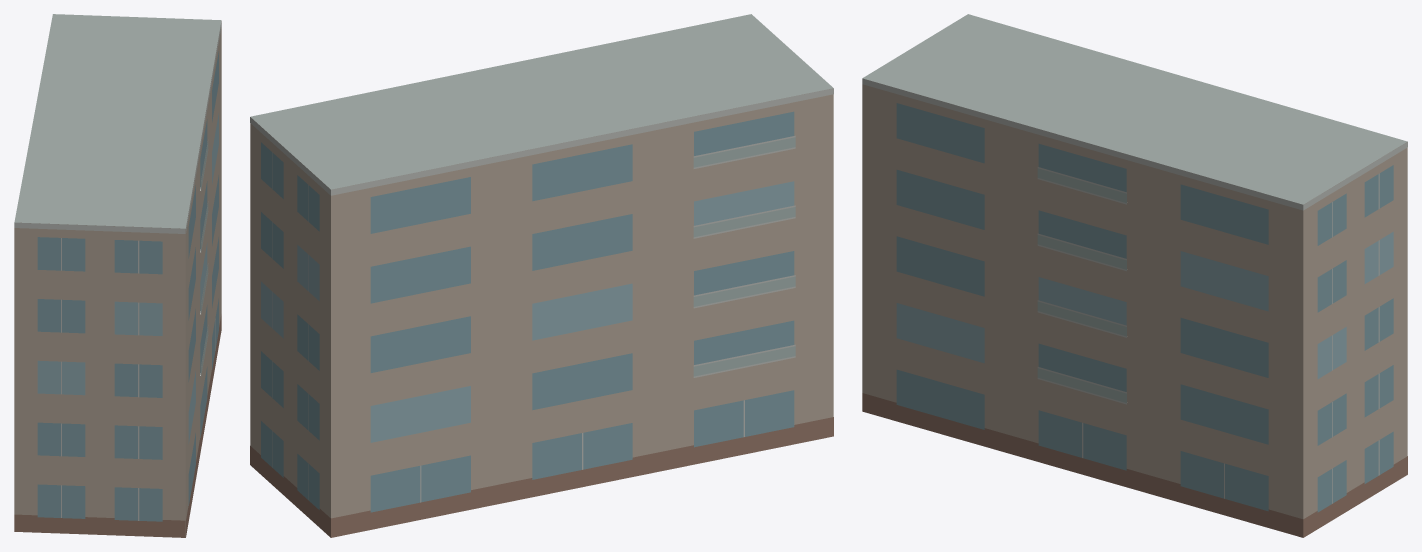
The model's file is survey-upis-32992894.glb.
3 views of the same model, side by side, from view 1: azimuth 30°, elevation 25°; view 2: azimuth 150°, elevation 25°; view 3: azimuth 270°, elevation 25° (orthographic). The views are drawn at different scales.
Parts seen in each view (by area): view 1: survey-upis-32992894.tmp; view 2: survey-upis-32992894.tmp; view 3: survey-upis-32992894.tmp.
Part boxes in pixels (box(x1,y1,x2,y2)): survey-upis-32992894.tmp: box(14, 14, 221, 537); survey-upis-32992894.tmp: box(250, 14, 833, 537); survey-upis-32992894.tmp: box(862, 14, 1407, 537).
Size of the model in its own units: 17.01 by 13.85 by 20.56.
